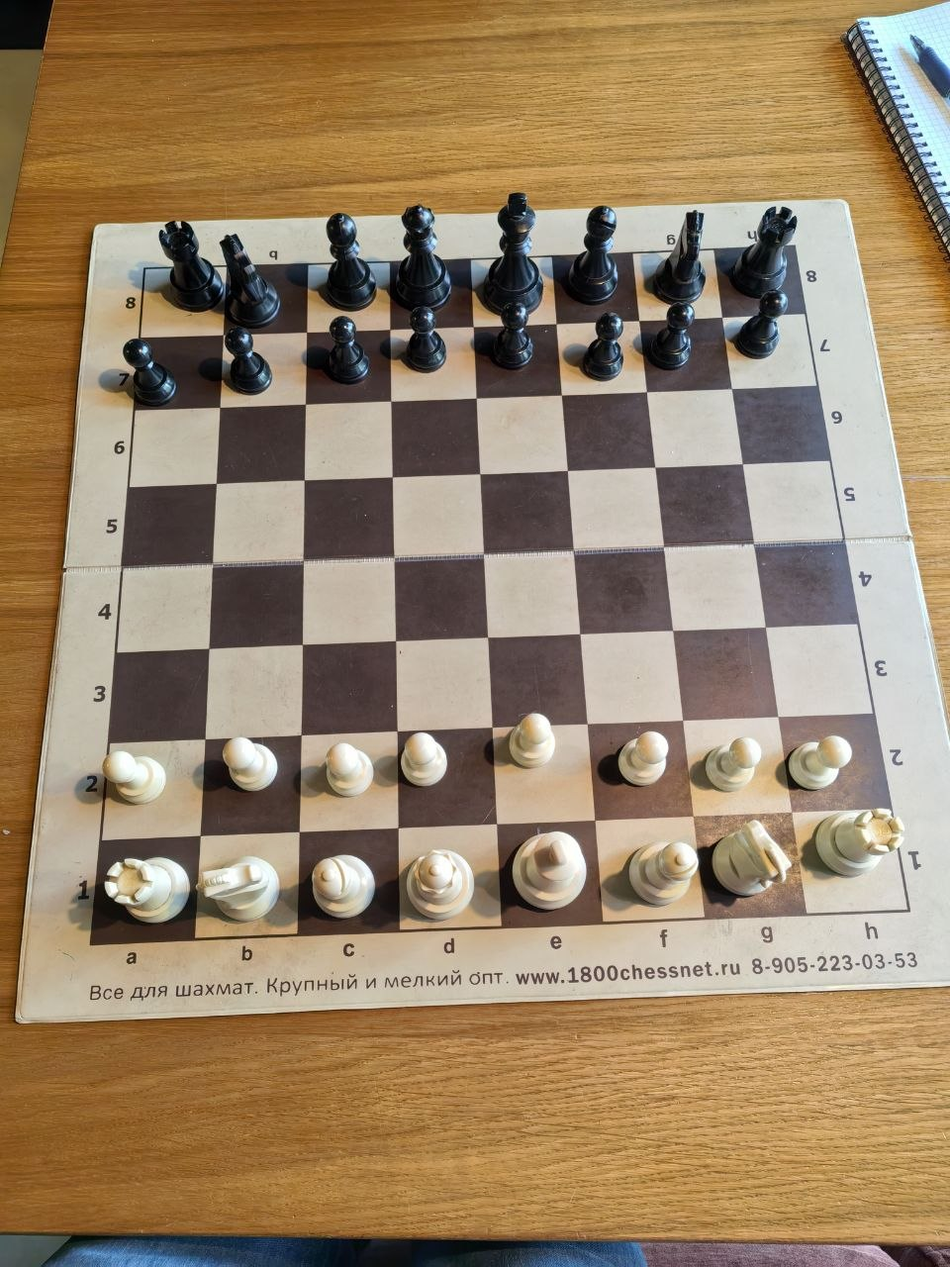black-bishop: (475, 1109, 594, 1267)
black-king: (356, 1109, 475, 1267)
black-knight: (0, 1109, 119, 1267), (831, 1109, 950, 1267)
black-pawn: (238, 1109, 356, 1267), (594, 1109, 712, 1267)
black-queen: (119, 1109, 238, 1267), (712, 1109, 831, 1267)
black-rook: (0, 950, 119, 1109), (119, 950, 238, 1109), (356, 950, 475, 1109), (475, 950, 594, 1109), (712, 950, 831, 1109), (831, 950, 950, 1109), (238, 950, 356, 1109), (594, 950, 712, 1109)
white-bishop: (475, 0, 594, 158)
white-king: (356, 0, 475, 158)
white-knight: (0, 0, 119, 158), (831, 0, 950, 158)
white-pawn: (238, 0, 356, 158), (594, 0, 712, 158)
white-queen: (119, 0, 238, 158), (712, 0, 831, 158)
white-rook: (0, 158, 119, 317), (119, 158, 238, 317), (356, 158, 475, 317), (475, 158, 594, 317), (712, 158, 831, 317), (831, 158, 950, 317), (238, 158, 356, 317), (594, 158, 712, 317)
